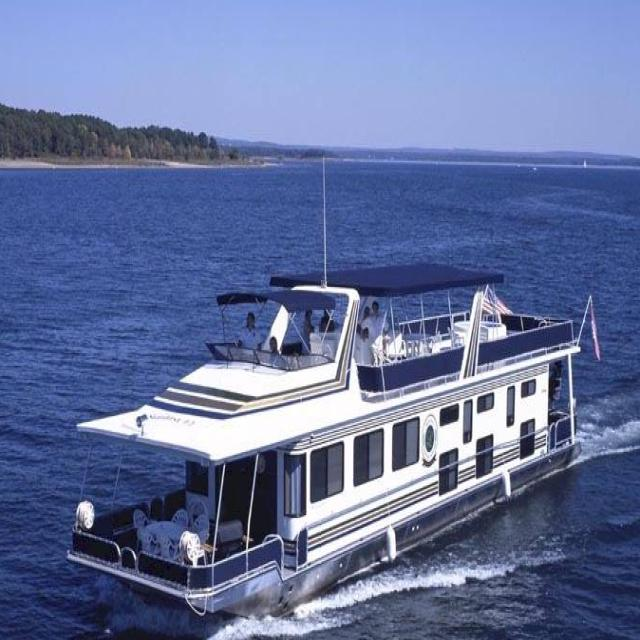passenger ship: (64, 246, 616, 617)
